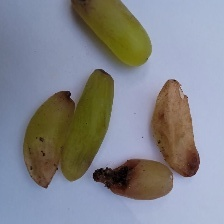grapes: (1, 43, 195, 190)
